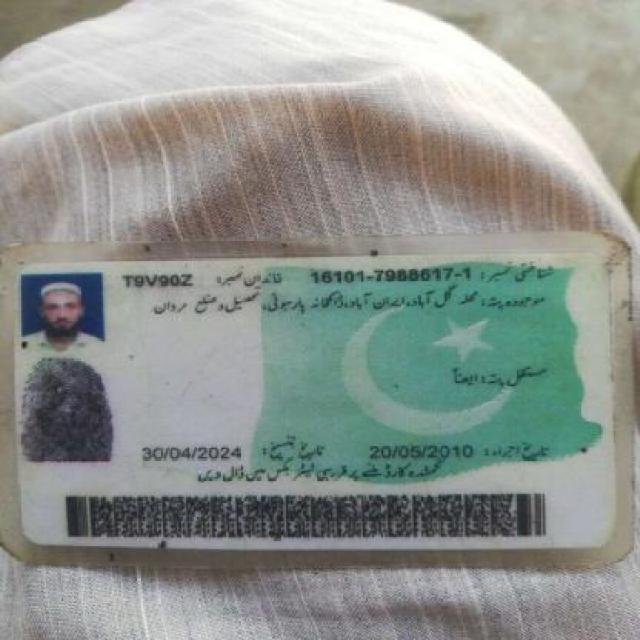Back: (6, 246, 619, 565)
